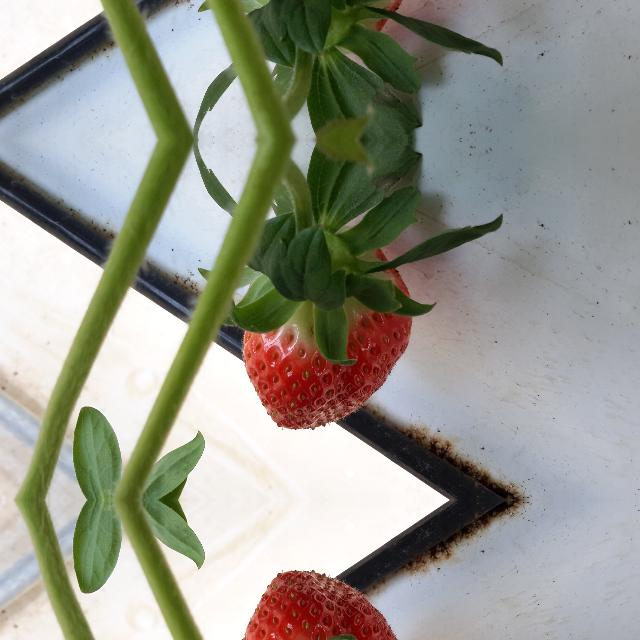Health_100: (240, 245, 410, 430), (239, 569, 410, 640)
